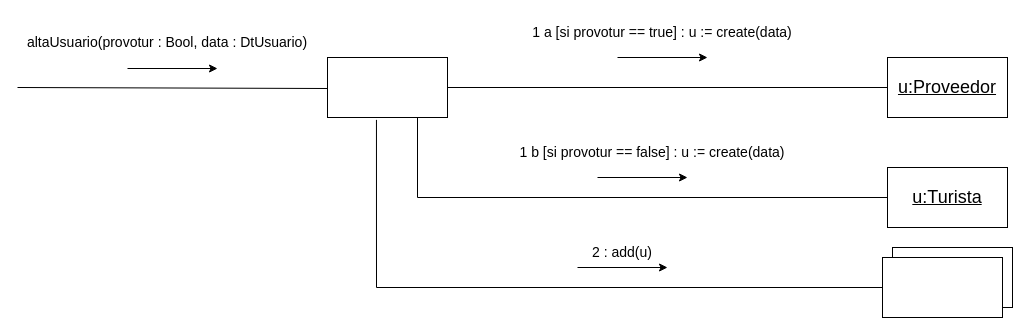
This 1030x335 diagram has some shape labels left out. Each missing label, with the centre of its shape:
":Sistema" belongs at [387,87].
":Usuario" belongs at [942,287].
